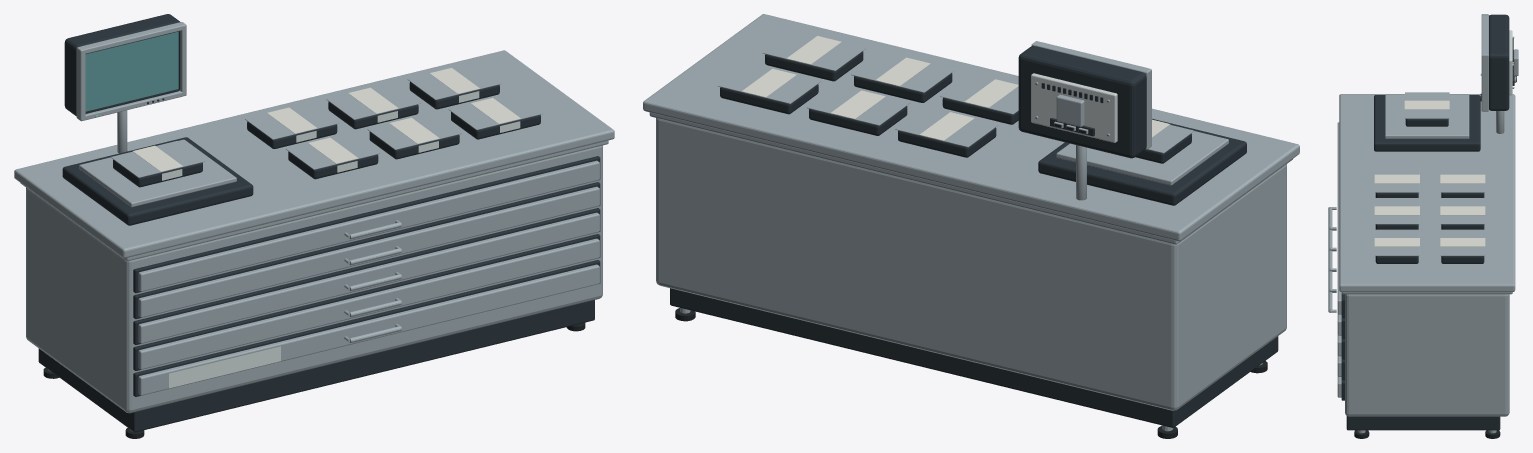
Rendered from OD_SealedMealInspection.fbx.
3 renders of one model, left to right at view 1: azimuth 30°, elevation 25°; view 2: azimuth 150°, elevation 25°; view 3: azimuth 270°, elevation 25°, orthographic. The views are drawn at different scales.
Parts seen in each view (by area): view 1: OD_SealedMealInspection; view 2: OD_SealedMealInspection; view 3: OD_SealedMealInspection.
Part boxes in pixels (bbox=[...]): OD_SealedMealInspection: bbox=[14, 14, 614, 438]; OD_SealedMealInspection: bbox=[643, 14, 1299, 438]; OD_SealedMealInspection: bbox=[1328, 14, 1518, 438].
Size of the model in its own units: 242 by 153 by 102.
